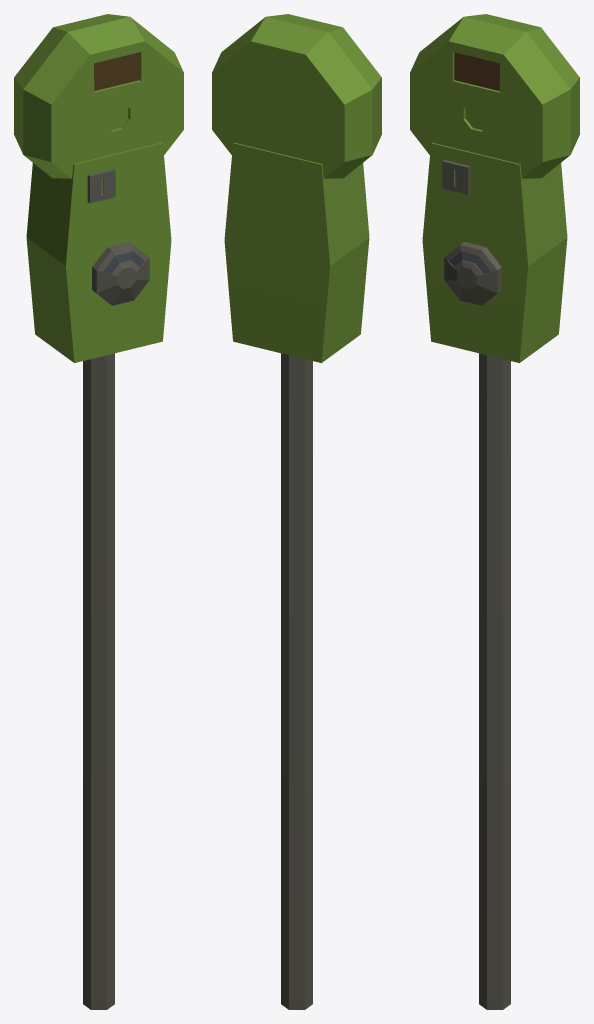
The model's file is Parking_01.fbx.
3 views of the same model, side by side, from view 1: azimuth 30°, elevation 25°; view 2: azimuth 150°, elevation 25°; view 3: azimuth 330°, elevation 25° (orthographic).
Parts seen in each view (by area): view 1: Parking_01; view 2: Parking_01; view 3: Parking_01.
Part boxes in pixels (x1=…): Parking_01: x1=14, y1=14, x2=183, y2=1009; Parking_01: x1=212, y1=14, x2=381, y2=1009; Parking_01: x1=410, y1=14, x2=579, y2=1009.
Bounding box in the file's own units: 0.2021 × 1.25 × 0.1102.
